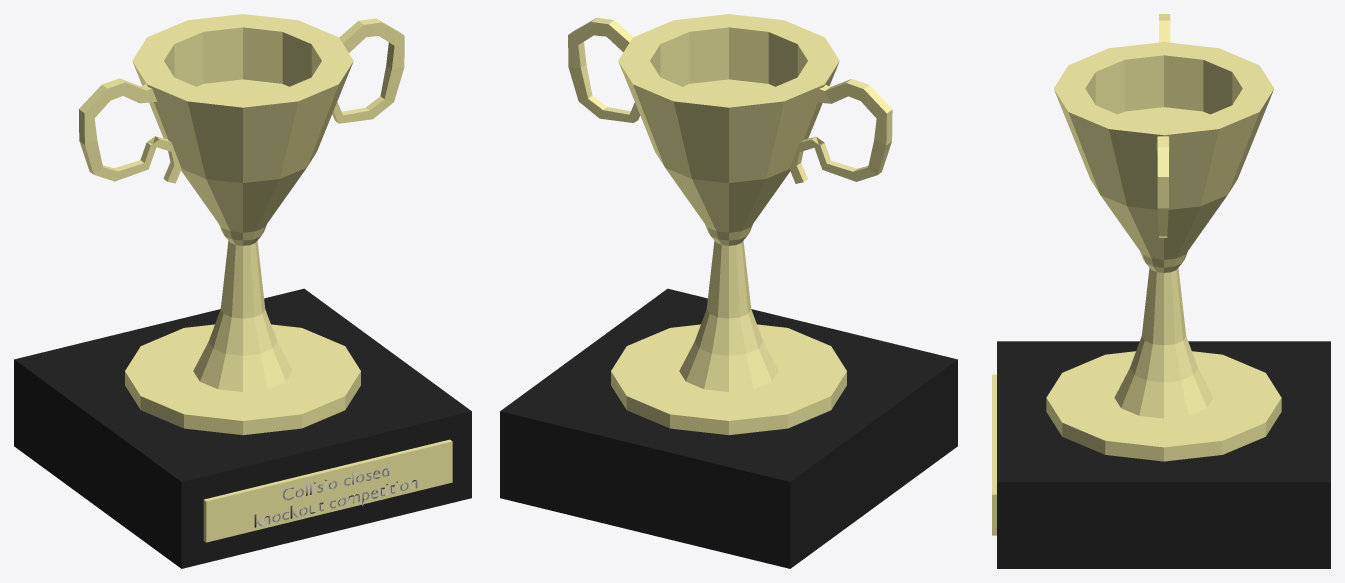
Rendered from trophy.glb.
3 views of the same model, side by side, from view 1: azimuth 30°, elevation 25°; view 2: azimuth 150°, elevation 25°; view 3: azimuth 270°, elevation 25° (orthographic).
Visible parts, largest first — view 1: trophy, text; view 2: trophy; view 3: trophy.
Part boxes in pixels (x1,y1,x2,y2): trophy: (14,14,471,568); text: (254,463,417,527); trophy: (500,14,957,568); trophy: (992,14,1330,568).
Bounding box in the file's own units: 5 × 6.29 × 4.69.
Materials: 2 (2 with a texture image).
